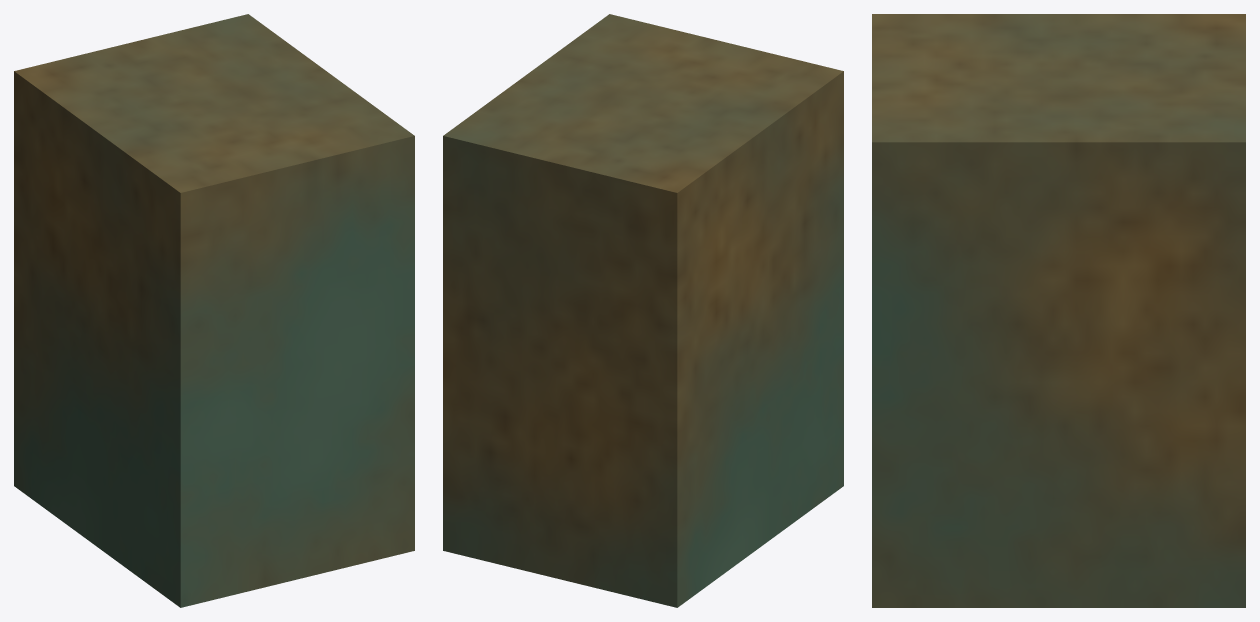
Rendered from Rack top finial__n10.glb.
The picture shows the model from 3 angles, left to right: view 1: azimuth 30°, elevation 25°; view 2: azimuth 150°, elevation 25°; view 3: azimuth 270°, elevation 25°; orthographic projection. The views are drawn at different scales.
Parts seen in each view (by area): view 1: Rack top finial; view 2: Rack top finial; view 3: Rack top finial.
Part boxes in pixels (box(x1,y1,x2,y2)): Rack top finial: box(14, 14, 414, 607); Rack top finial: box(443, 14, 843, 607); Rack top finial: box(872, 14, 1245, 607).
Size of the model in its own units: 0.13 by 0.22 by 0.16.
Materials: 1 (1 with a texture image).
